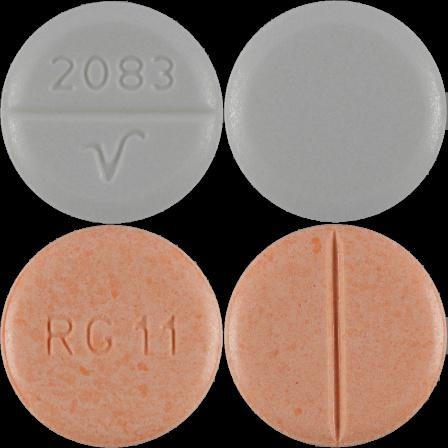60760-114: (0, 0, 224, 224)
